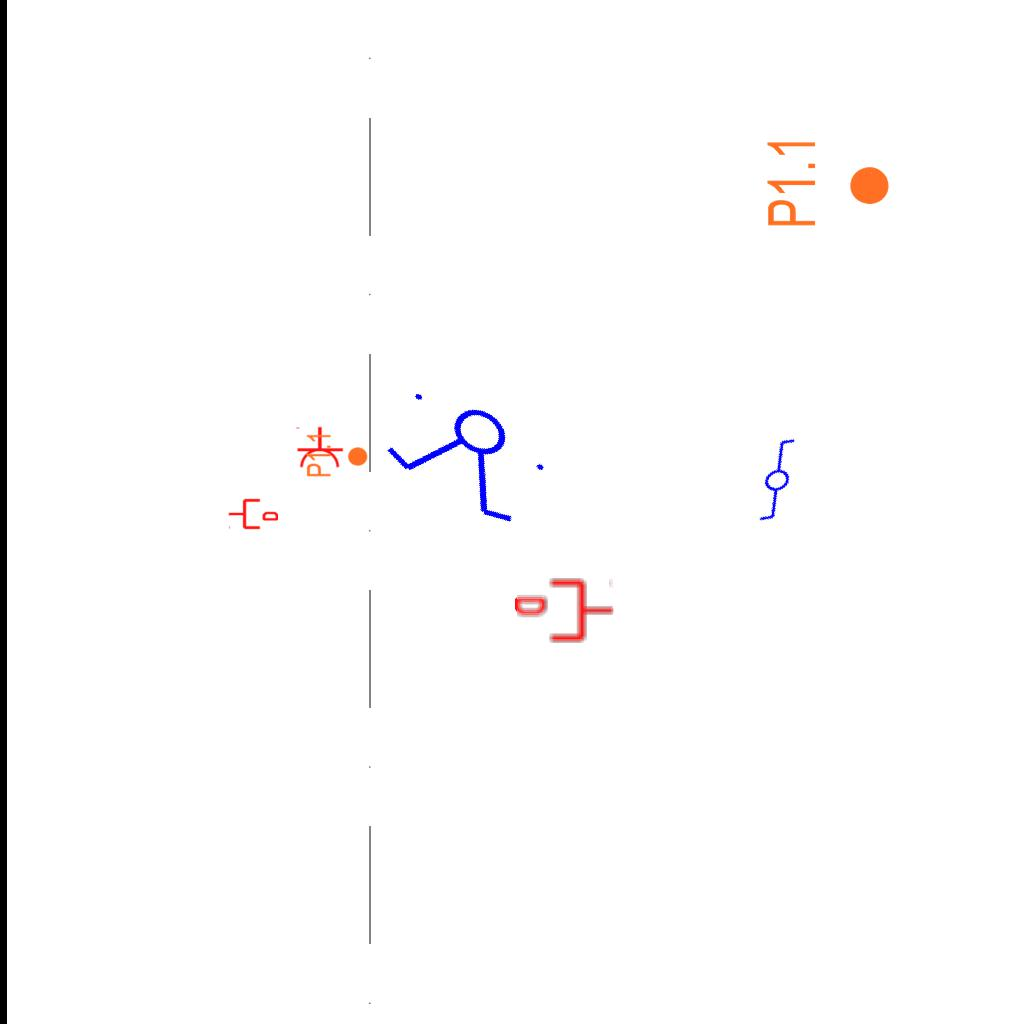Datenanschluss_einfach: (515, 576, 615, 645), (228, 497, 278, 531)
Downlight_LED_Einbauleuchten_Flur: (764, 136, 892, 229), (305, 432, 369, 478)
Schukosteckdose_einfach: (294, 426, 344, 469)
Serienschalter: (371, 371, 565, 539)
Wechselschalter: (722, 431, 824, 531)
